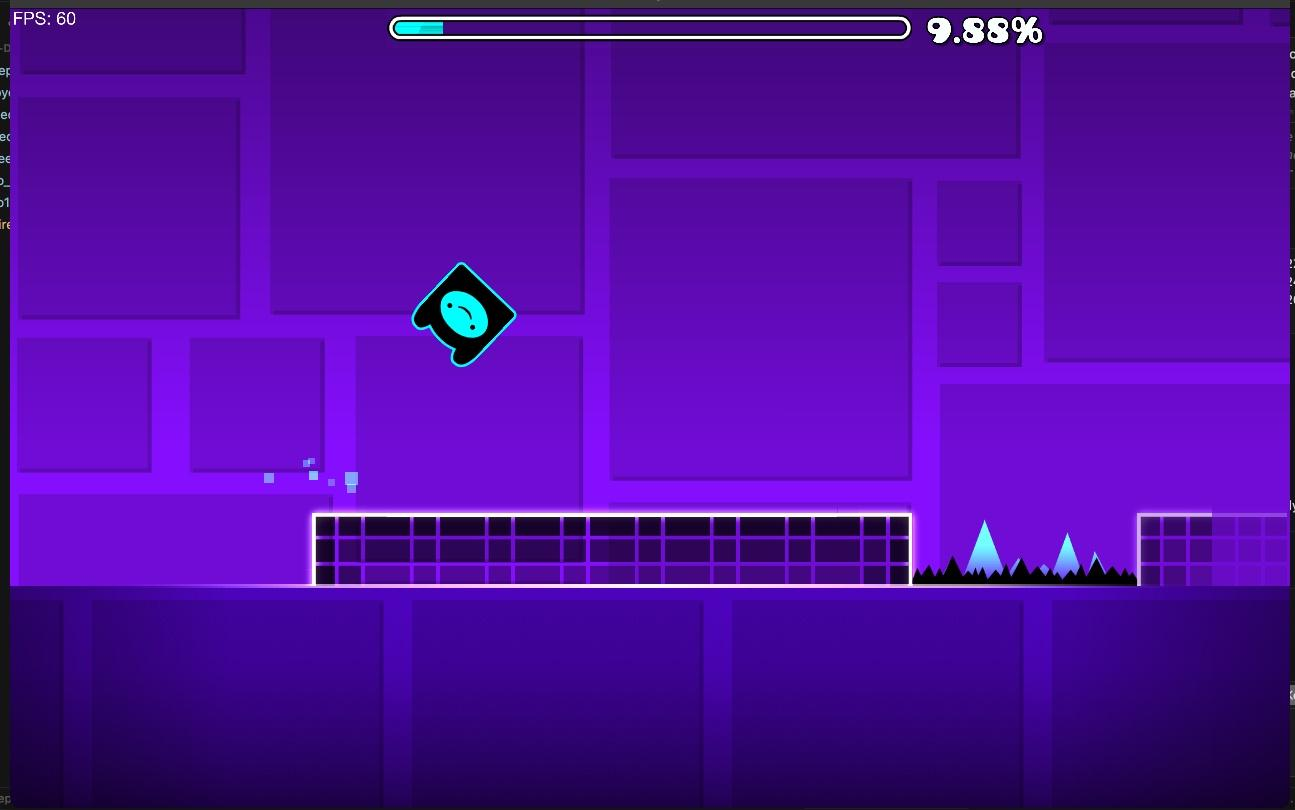block: (309, 513, 911, 586), (1140, 517, 1284, 586)
player: (412, 263, 515, 366)
spike: (964, 522, 1001, 572), (1052, 534, 1080, 576)
